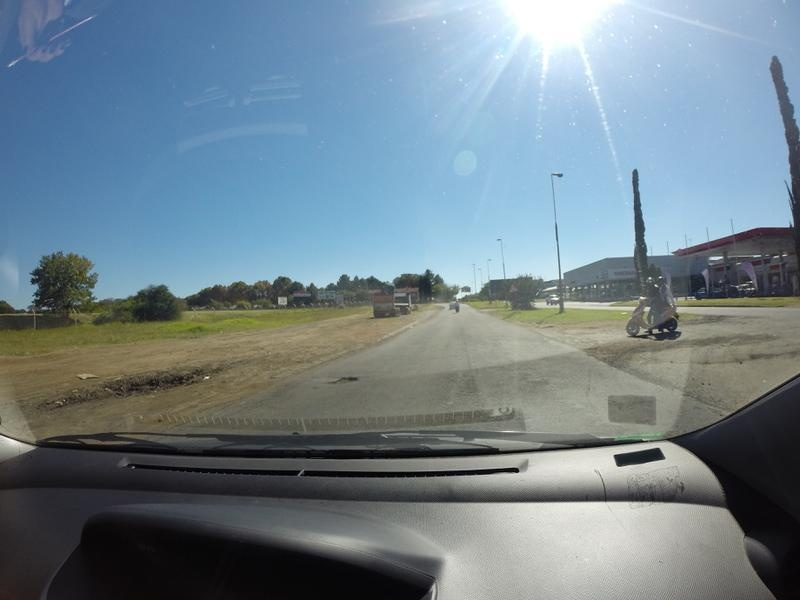pothole: (326, 376, 369, 383)
